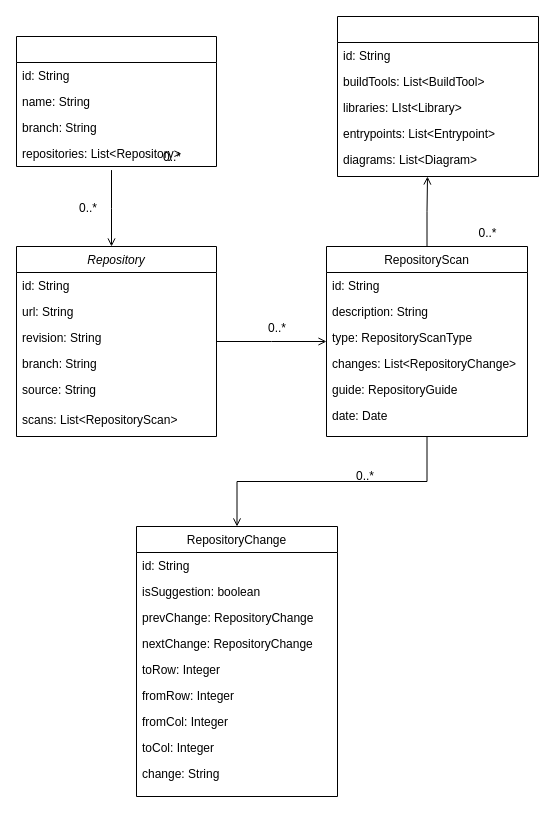
Image size: 555x813. Some labels were removed from this diagram. The shapes that lost their labels are listed below. From the top down, each one's box as (x1, y1, x2, y2) in pixels, then its label:
(16, 36, 216, 166): Organization
(336, 16, 538, 176): RepositoryGuide
